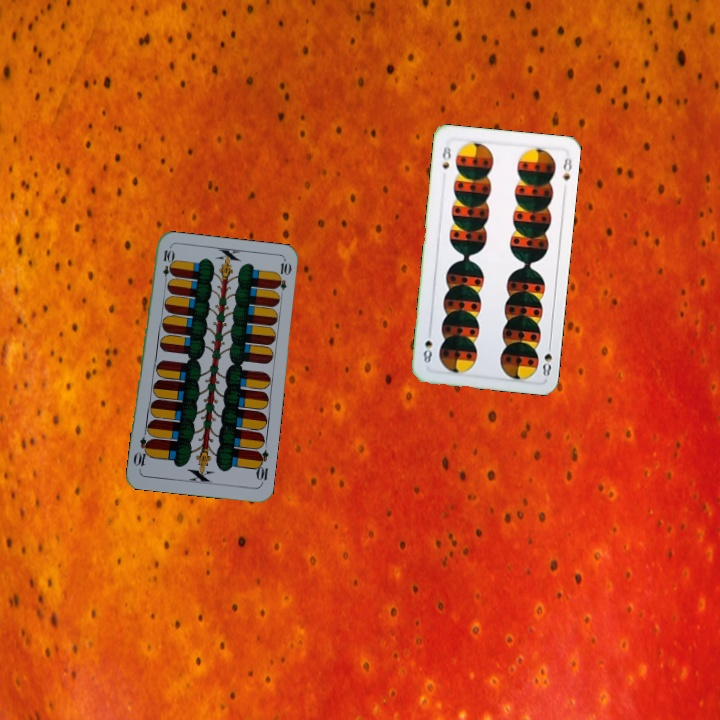E10: (251, 446, 271, 487), (159, 246, 174, 286)
S8: (539, 339, 554, 379), (438, 142, 454, 171)
